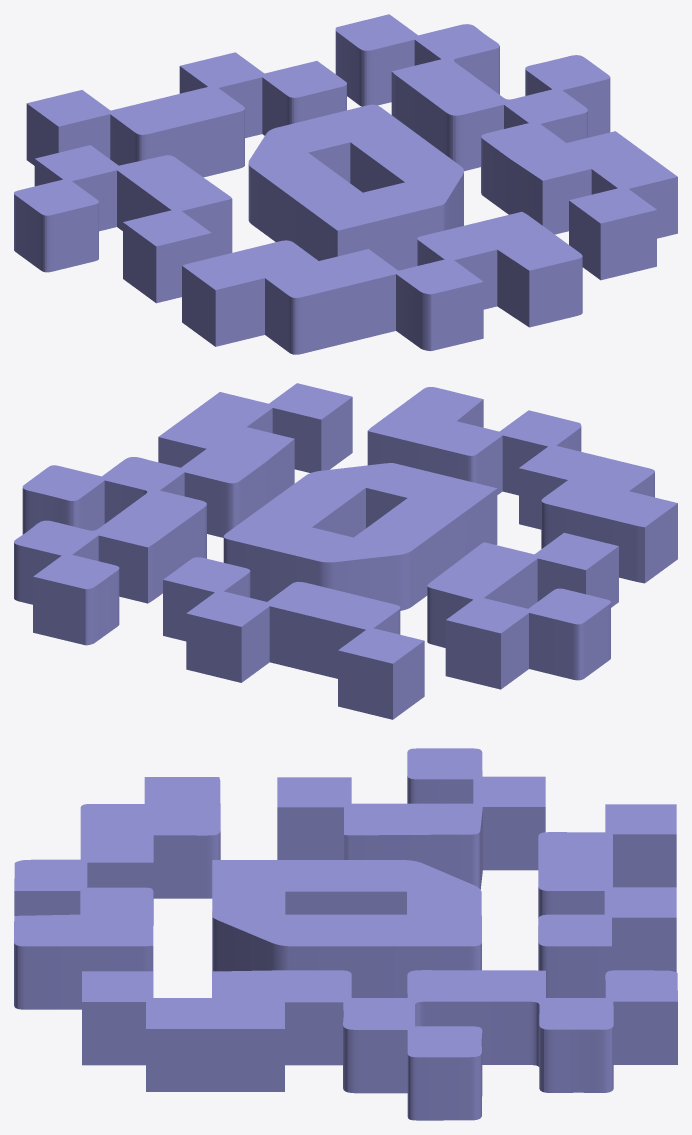
The model's file is OmnisceyesOBJ.obj.
3 views of the same model, one above another, from view 1: azimuth 30°, elevation 25°; view 2: azimuth 150°, elevation 25°; view 3: azimuth 270°, elevation 25° (orthographic). The views are drawn at different scales.
Parts seen in each view (by area): view 1: Omnisceyes; view 2: Omnisceyes; view 3: Omnisceyes.
Part boxes in pixels (x1,y1,x2,y2): Omnisceyes: (14,14,677,354); Omnisceyes: (14,383,677,719); Omnisceyes: (14,748,677,1120).
Size of the model in its own units: 1.37 by 0.1311 by 1.25.
